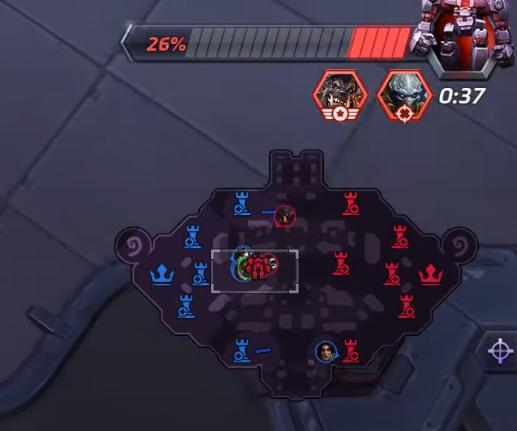blue nexus: (147, 261, 175, 285)
blue player: (314, 340, 339, 363)
blue tower: (232, 336, 251, 363), (232, 190, 251, 216), (176, 292, 195, 318), (191, 260, 210, 285), (183, 223, 201, 249)
red nexus: (416, 261, 444, 284)
red player: (245, 253, 273, 282), (273, 204, 296, 227), (259, 253, 280, 276)
red tower: (391, 223, 409, 249), (341, 190, 359, 216), (331, 250, 349, 275), (382, 260, 400, 285), (341, 337, 359, 362), (398, 292, 415, 318)
